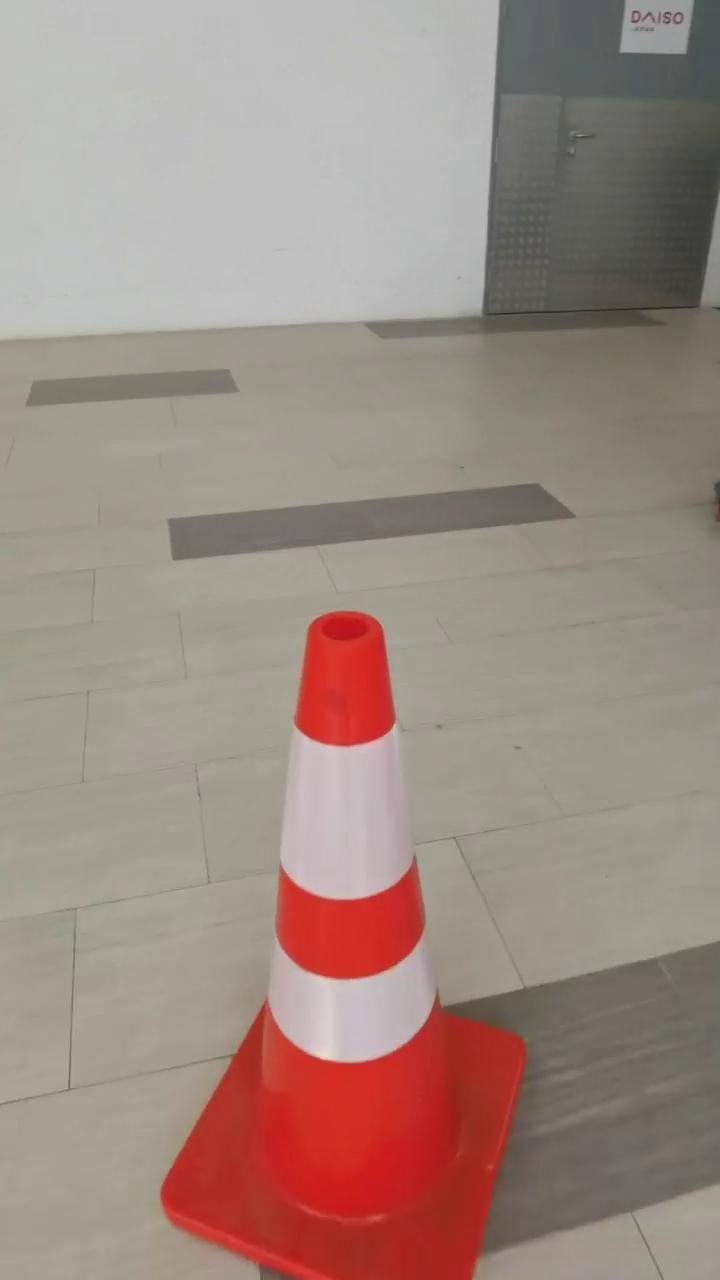traffic cone: (161, 610, 528, 1280)
